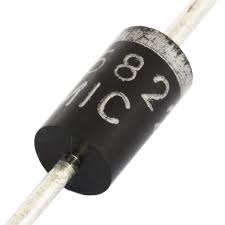diode: (14, 15, 214, 214)
